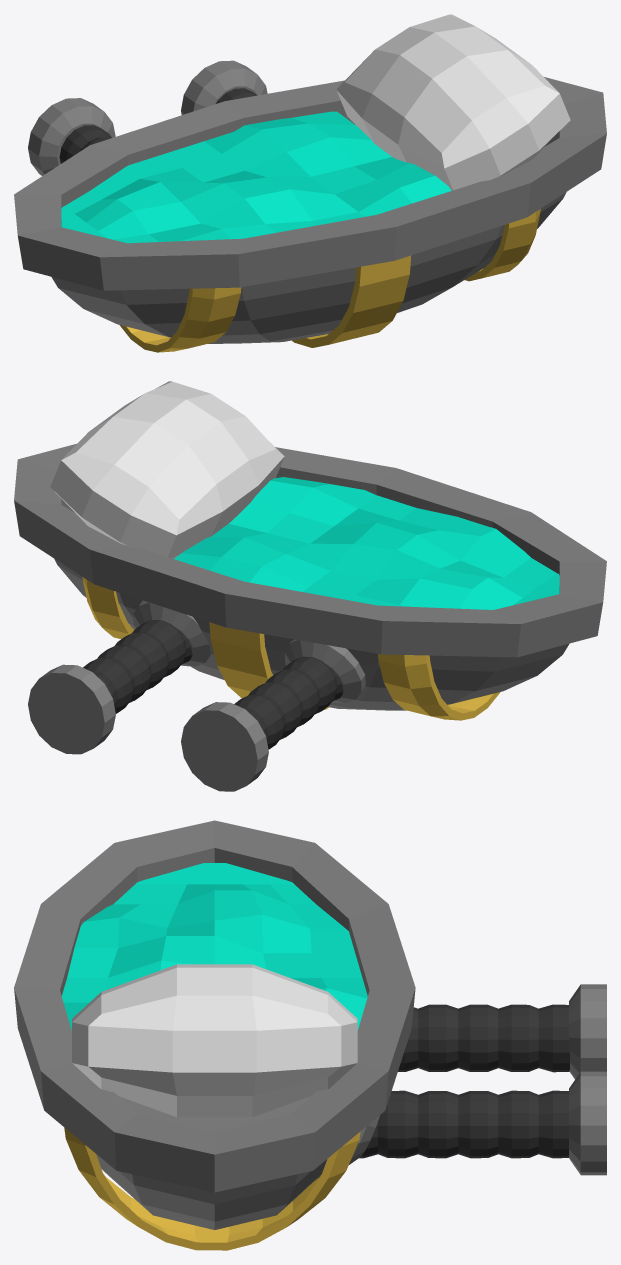
File: Bed.fbx
The picture shows the model from 3 angles, top to bottom: view 1: azimuth 30°, elevation 25°; view 2: azimuth 150°, elevation 25°; view 3: azimuth 270°, elevation 25°; orthographic projection. The views are drawn at different scales.
Visible parts, largest first — view 1: Cube.001; view 2: Cube.001; view 3: Cube.001.
Boxes of the visible parts, x1,y1,x2,y2 form: Cube.001: [14, 14, 606, 352]; Cube.001: [14, 381, 606, 791]; Cube.001: [14, 820, 606, 1250].
Size of the model in its own units: 469 by 192 by 351.
